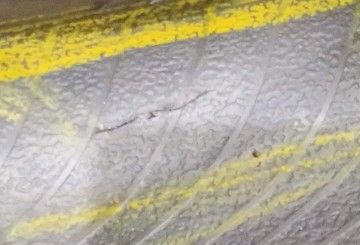cut: (93, 88, 216, 137)
